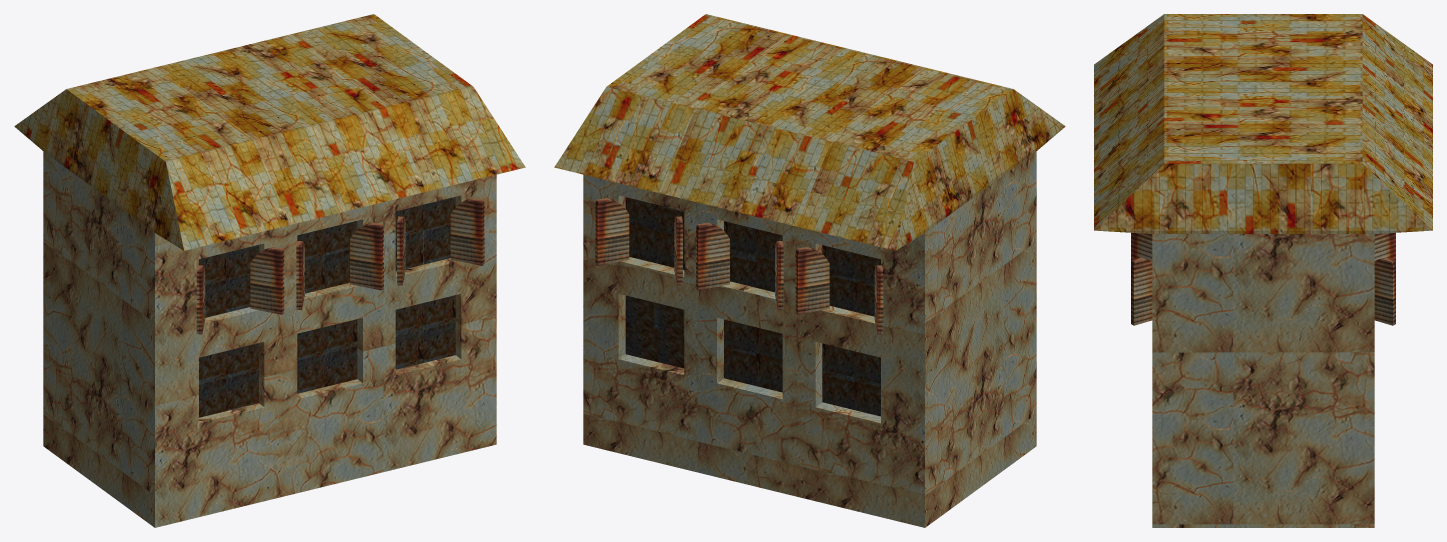
Rendered from 建物小屋.fbx.
3 renders of one model, left to right at view 1: azimuth 30°, elevation 25°; view 2: azimuth 150°, elevation 25°; view 3: azimuth 270°, elevation 25°, orthographic.
Visible parts, largest first — view 1: 建物C, 建物C.001, 建物C.003, 建物C.012, 建物C.004, 建物C.009, 建物C.013, 建物C.005, 建物C.008; view 2: 建物C, 建物C.001, 建物C.003, 建物C.011, 建物C.002, 建物C.010, 建物C.014, 建物C.006, 建物C.007; view 3: 建物C.001, 建物C, 建物C.002, 建物C.004, 建物C.005, 建物C.006.
Part boxes in pixels (box(x1,y1,x2,y2)): 建物C: box(43, 151, 496, 527); 建物C.001: box(14, 14, 525, 250); 建物C.003: box(199, 197, 455, 417); 建物C.012: box(250, 247, 284, 314); 建物C.004: box(450, 198, 484, 265); 建物C.009: box(350, 222, 383, 290); 建物C.013: box(196, 265, 205, 334); 建物C.005: box(397, 216, 405, 285); 建物C.008: box(296, 241, 304, 309); 建物C: box(583, 151, 1036, 527); 建物C.001: box(554, 14, 1065, 250); 建物C.003: box(625, 197, 880, 416); 建物C.011: box(795, 247, 829, 314); 建物C.002: box(595, 198, 629, 265); 建物C.010: box(696, 222, 729, 290); 建物C.014: box(874, 265, 883, 334); 建物C.006: box(674, 216, 682, 285); 建物C.007: box(775, 241, 783, 309); 建物C.001: box(1094, 14, 1432, 233); 建物C: box(1152, 234, 1374, 527); 建物C.002: box(1374, 257, 1395, 325); 建物C.004: box(1131, 257, 1152, 325); 建物C.005: box(1131, 233, 1152, 262); 建物C.006: box(1374, 233, 1395, 262).
Bounding box in the file's own units: 229 × 229 × 198.
Materials: 4 (4 with a texture image).
